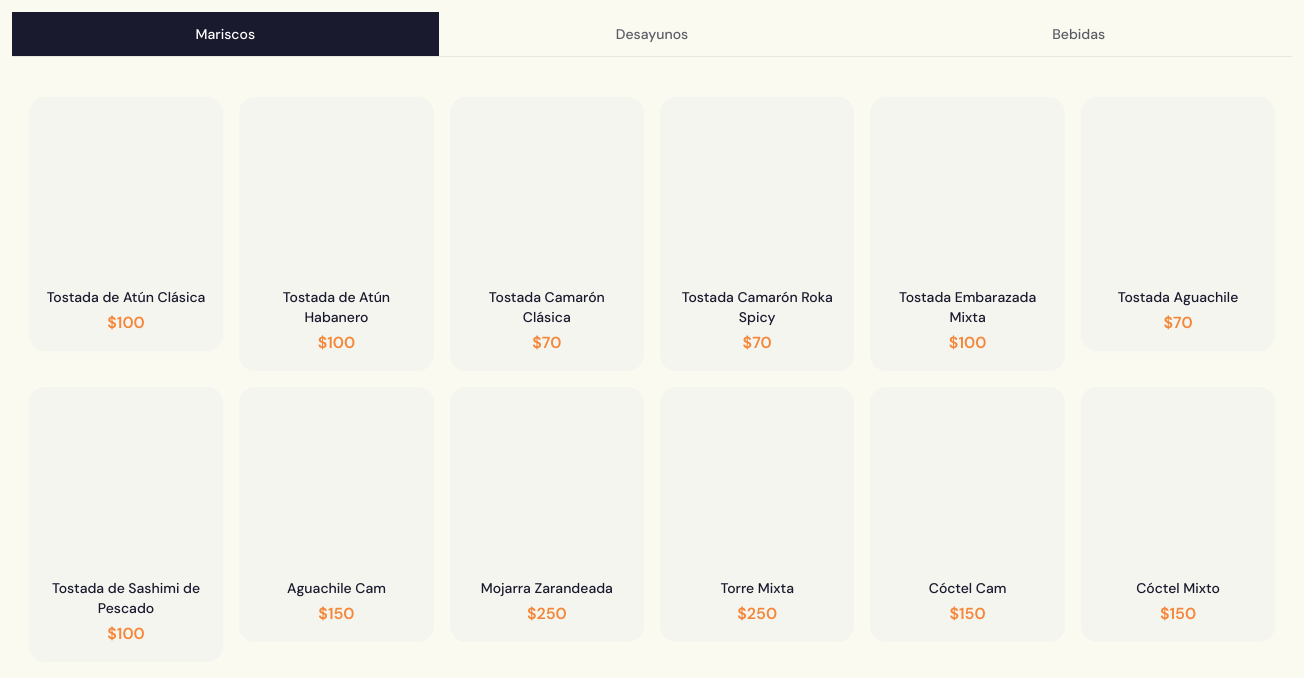
Test: Menu Page Integration — Filtrado y Modal › clicking "Desayunos" tab shows desayunos items
Click the "Desayunos" tab
Click the tab "Desayunos" at x=652, y=34, box x1=439 y1=12 x2=865 y2=56
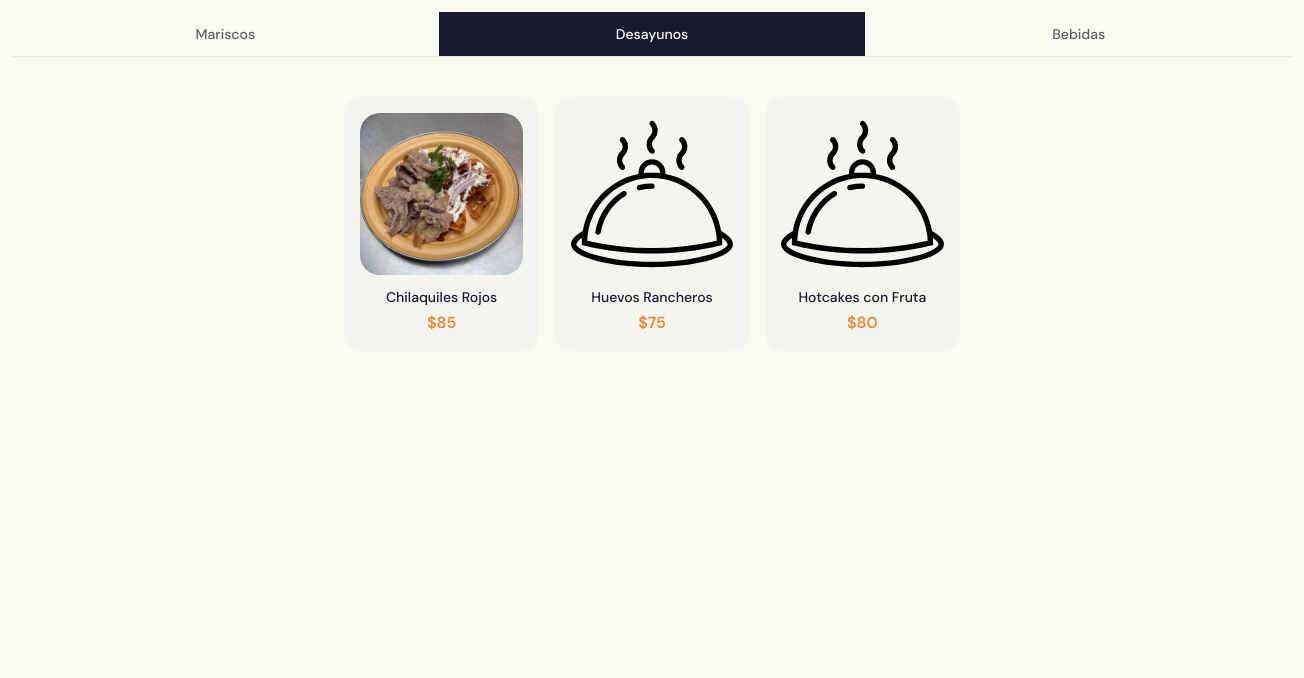
Check: the text "Chilaquiles Rojos" is shown, box x1=386 y1=288 x2=497 y2=306
Check: the text "Huevos Rancheros" is shown, box x1=591 y1=288 x2=713 y2=306
Check: the text "Hotcakes con Fruta" is shown, box x1=798 y1=288 x2=926 y2=306
